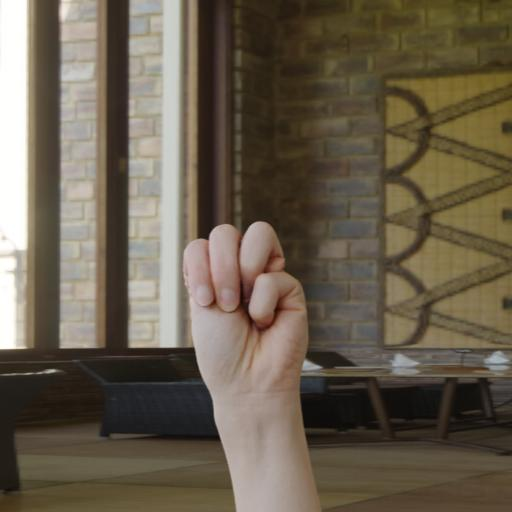M: (176, 207, 313, 408)
